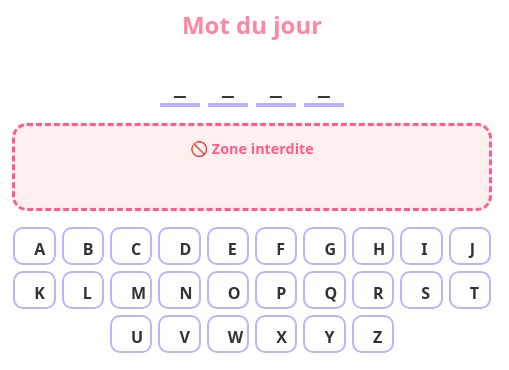
Test: WordGame — interaction › désactive un bouton après utilisation
What coordinates should you click on to do the following:
click the button "Z"
I would click on:
 (373, 334)
Its box is [352,315,394,353].
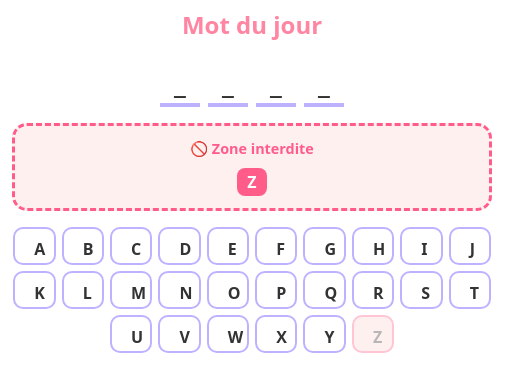
Expected: the button "Z" is disabled, [352,315,394,353]
